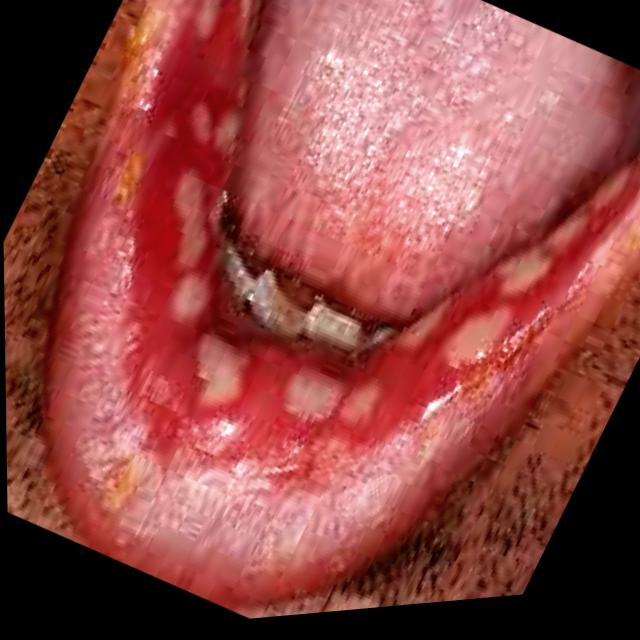ulcer: (200, 334, 247, 405), (176, 172, 208, 267), (447, 311, 504, 360), (287, 371, 343, 415), (343, 381, 381, 423), (174, 275, 208, 320)
